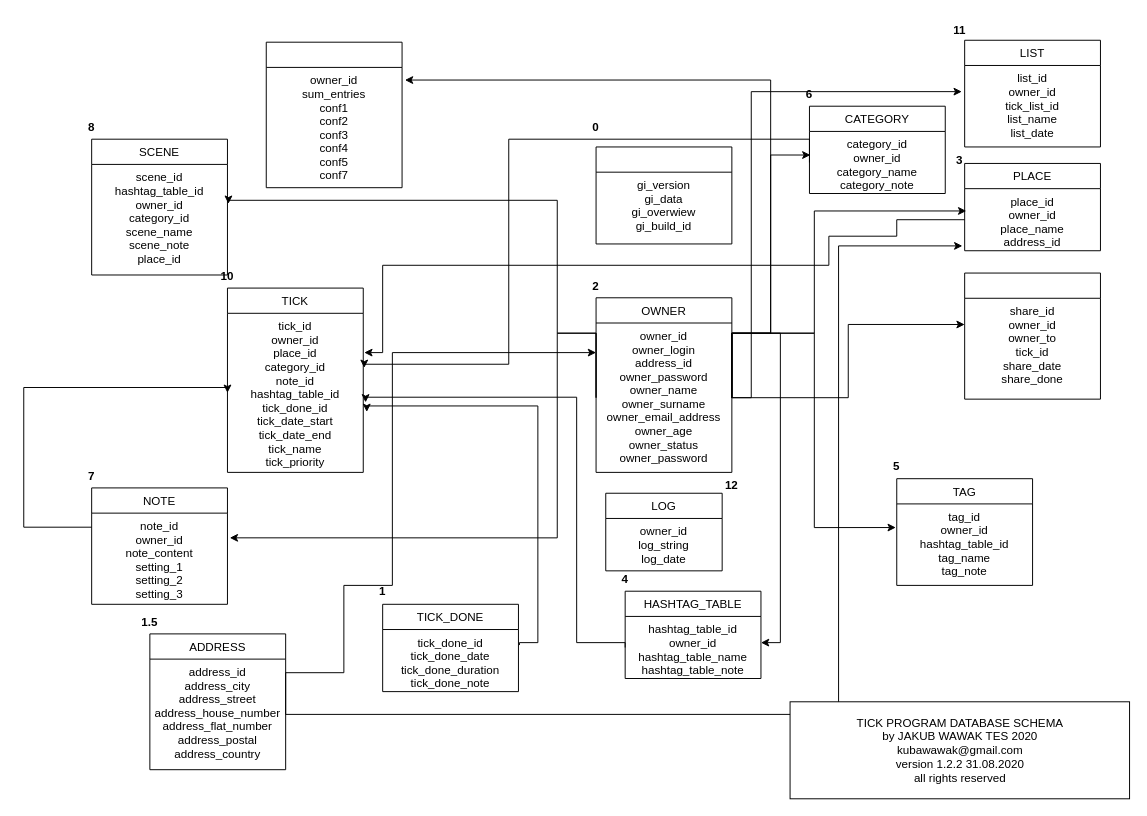
Some shapes in this 1147 by 816 pixel diagram are drawn without their labels. Each missing label, with the box of its shape:
CONFIGURATION: (265, 41, 402, 188)
GENERAL_INFO: (595, 146, 732, 244)
SHARE_QUEUE: (964, 272, 1100, 399)
